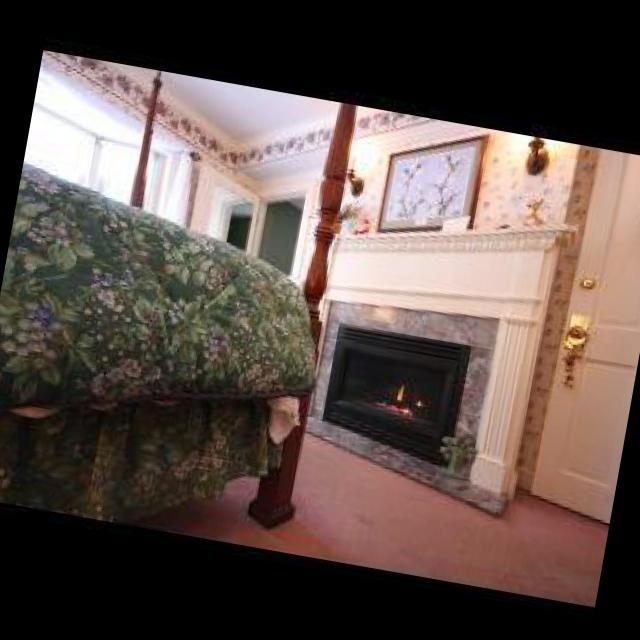fire: (379, 376, 424, 416)
